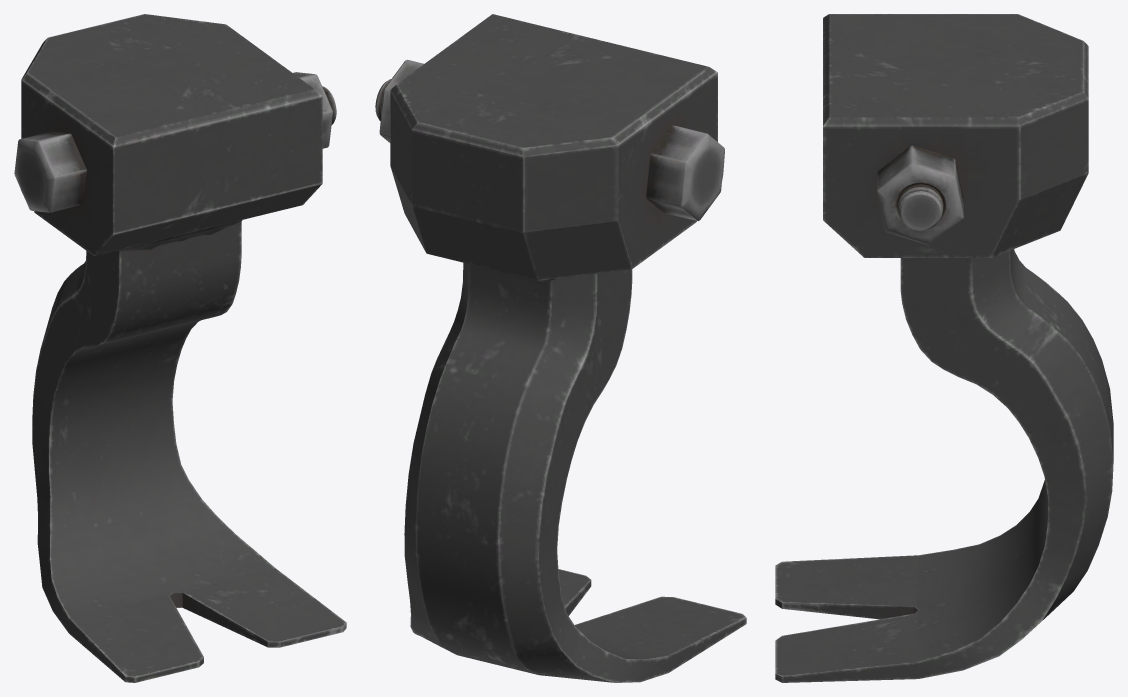
The model's file is Pommel_Hammer_10.glb.
3 renders of one model, left to right at view 1: azimuth 30°, elevation 25°; view 2: azimuth 150°, elevation 25°; view 3: azimuth 270°, elevation 25°, orthographic. The views are drawn at different scales.
Parts seen in each view (by area): view 1: Pommel_Hammer_10_LOD0; view 2: Pommel_Hammer_10_LOD0; view 3: Pommel_Hammer_10_LOD0.
Part boxes in pixels (<box>): Pommel_Hammer_10_LOD0: <box>14,14,346,682</box>; Pommel_Hammer_10_LOD0: <box>375,14,746,682</box>; Pommel_Hammer_10_LOD0: <box>775,14,1113,682</box>.
Bounding box in the file's own units: 0.0674 × 0.1146 × 0.0627.
1 material, 1 textured.
